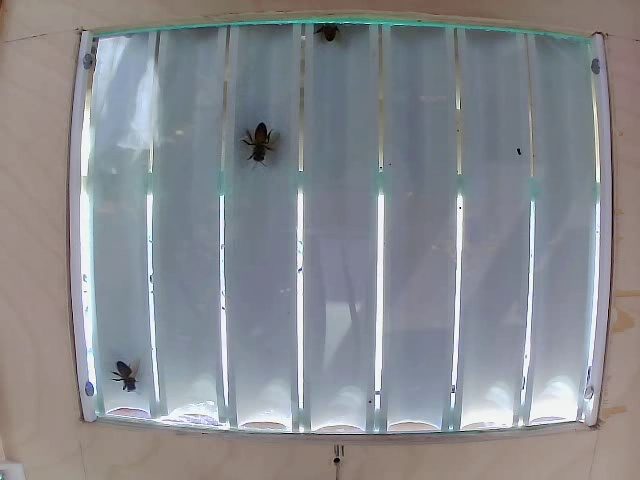bee: (239, 108, 285, 164), (100, 337, 142, 394), (318, 20, 356, 62)
